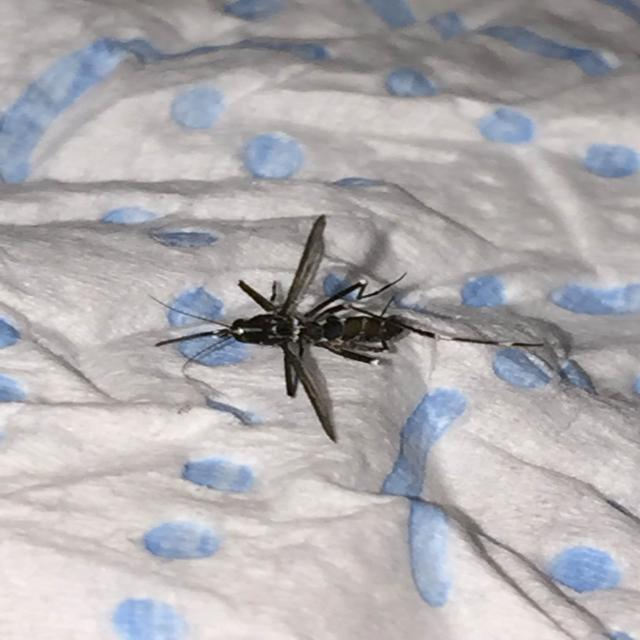albopictus: (121, 207, 568, 461)
